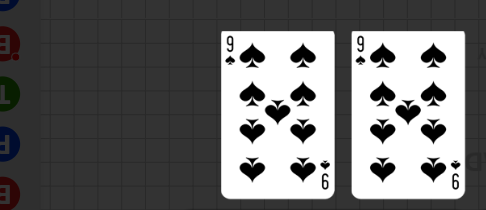9S: (318, 158, 331, 191), (224, 34, 237, 67)
